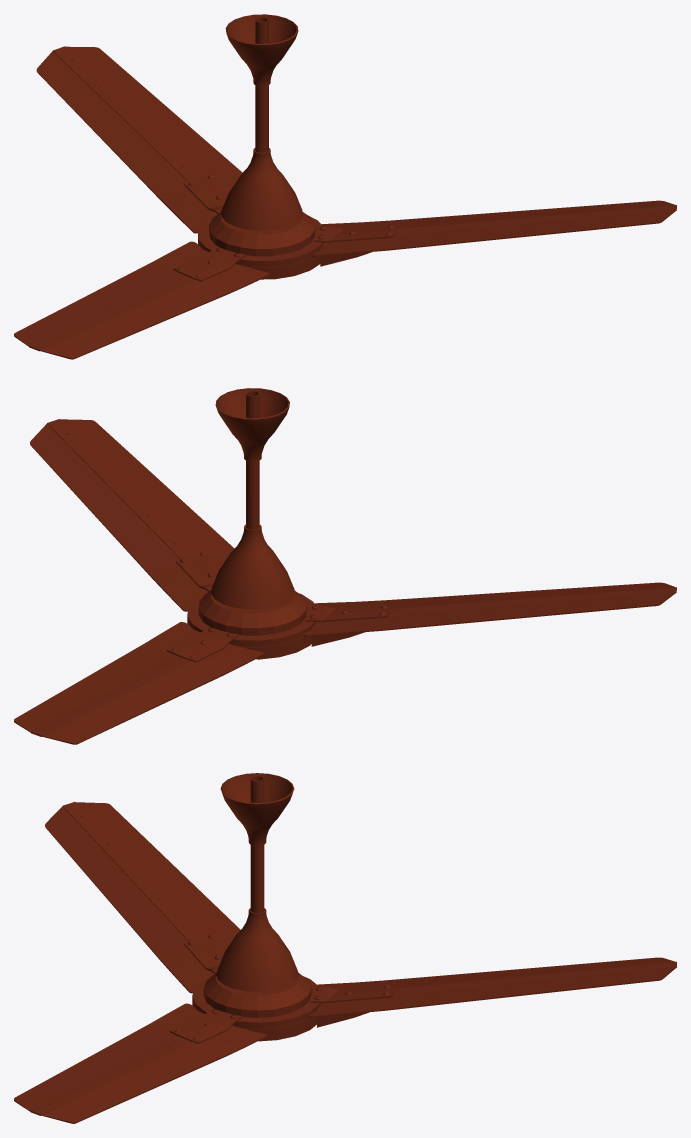
The model's file is coffe_color.glb.
3 views of the same model, one above another, from view 1: azimuth 30°, elevation 25°; view 2: azimuth 150°, elevation 25°; view 3: azimuth 270°, elevation 25° (orthographic). The views are drawn at different scales.
Visible parts, largest first — view 1: fan; view 2: fan; view 3: fan.
Part boxes in pixels (x1=…): fan: x1=14, y1=14, x2=676, y2=359; fan: x1=14, y1=388, x2=676, y2=744; fan: x1=14, y1=773, x2=676, y2=1123.
Size of the model in its own units: 107 by 39.33 by 96.3.
